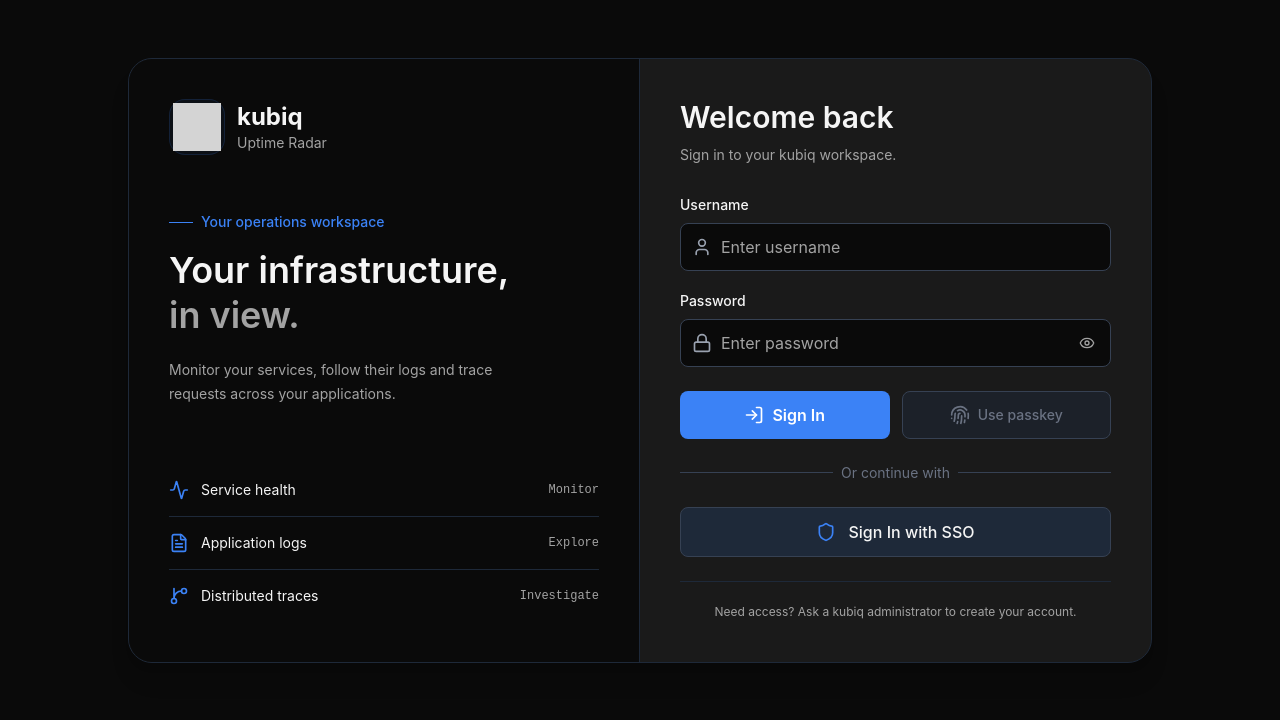
Test: login compatibility › reports a passkey failure without authenticating
This screenshot has width=1280, height=720.
Type "fixture" into the field labelled "Username" at (896, 246), box [680, 222, 1111, 270]
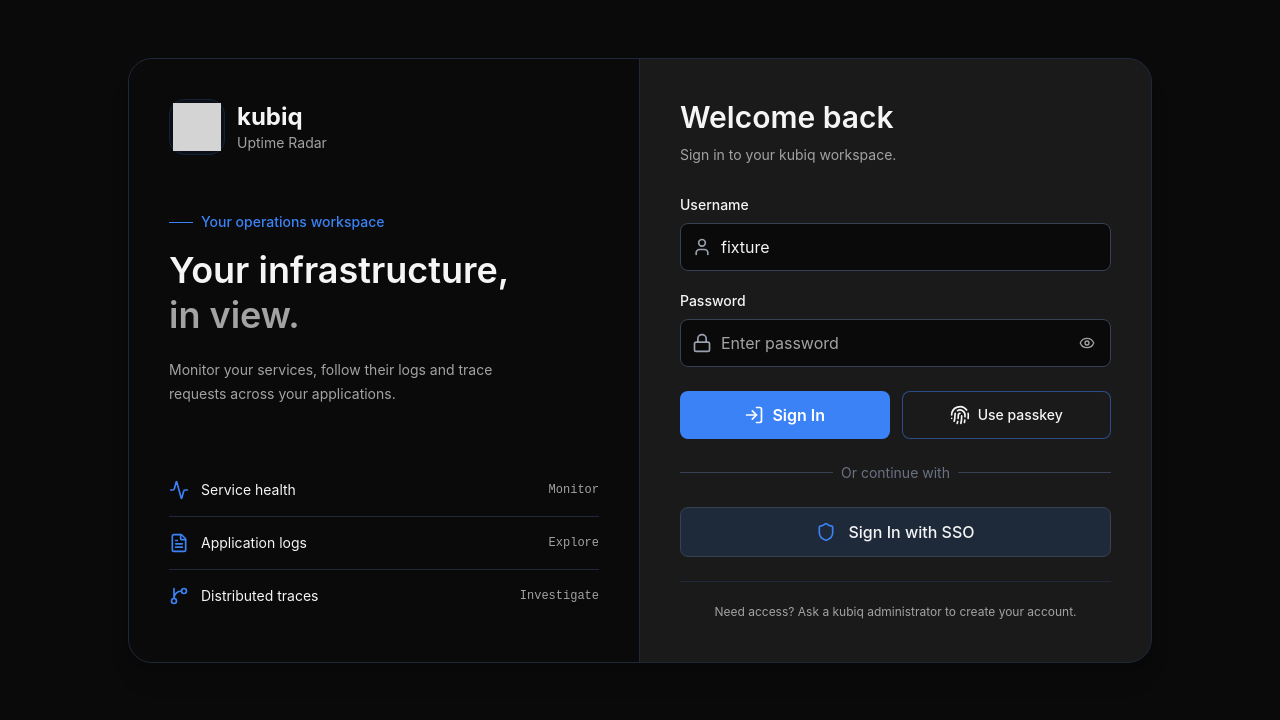
Click the button "Use passkey" at (1006, 414), box [902, 390, 1111, 438]
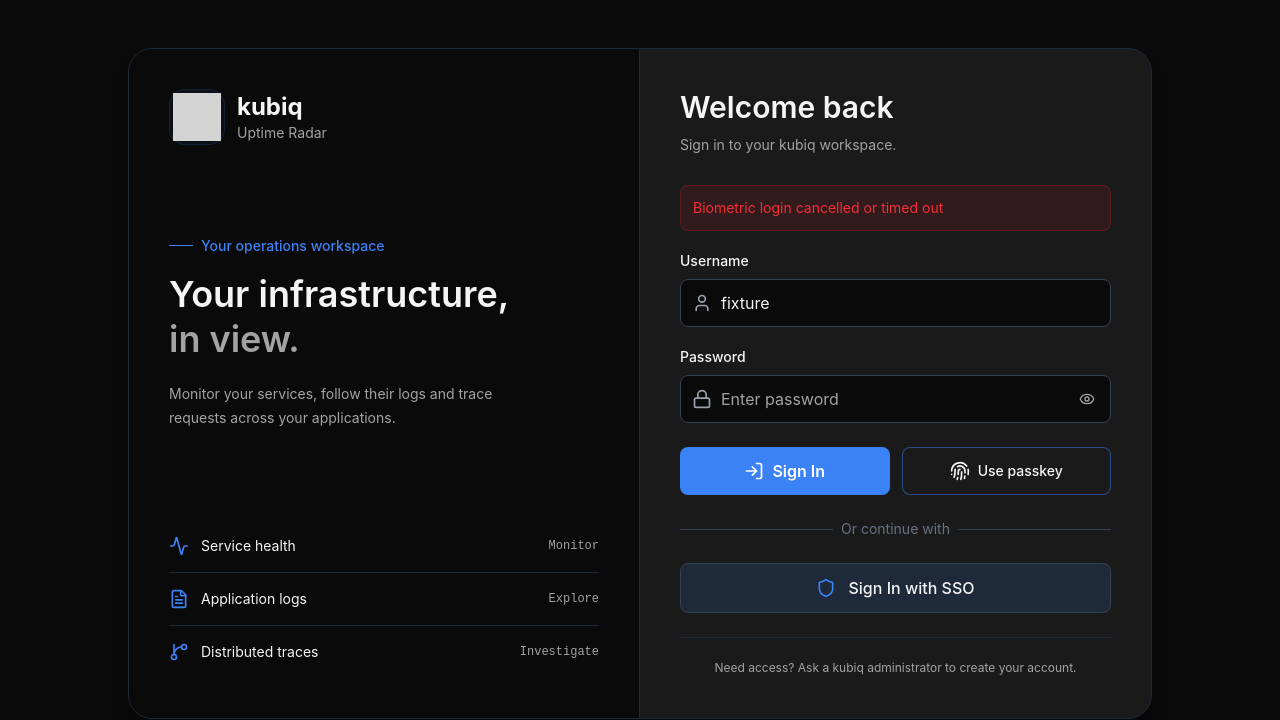
Expected: the text "Biometric login cancelled or timed out" is shown, [680, 185, 1111, 231]
